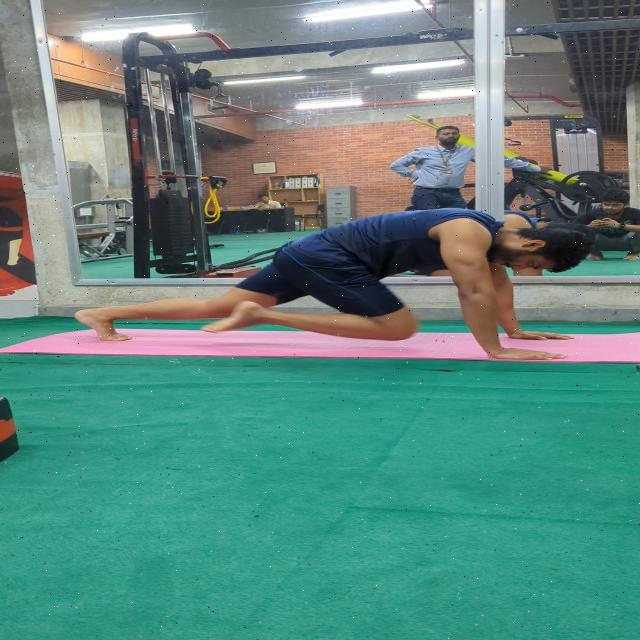Normal_MountainClimbers: (65, 182, 605, 351)
